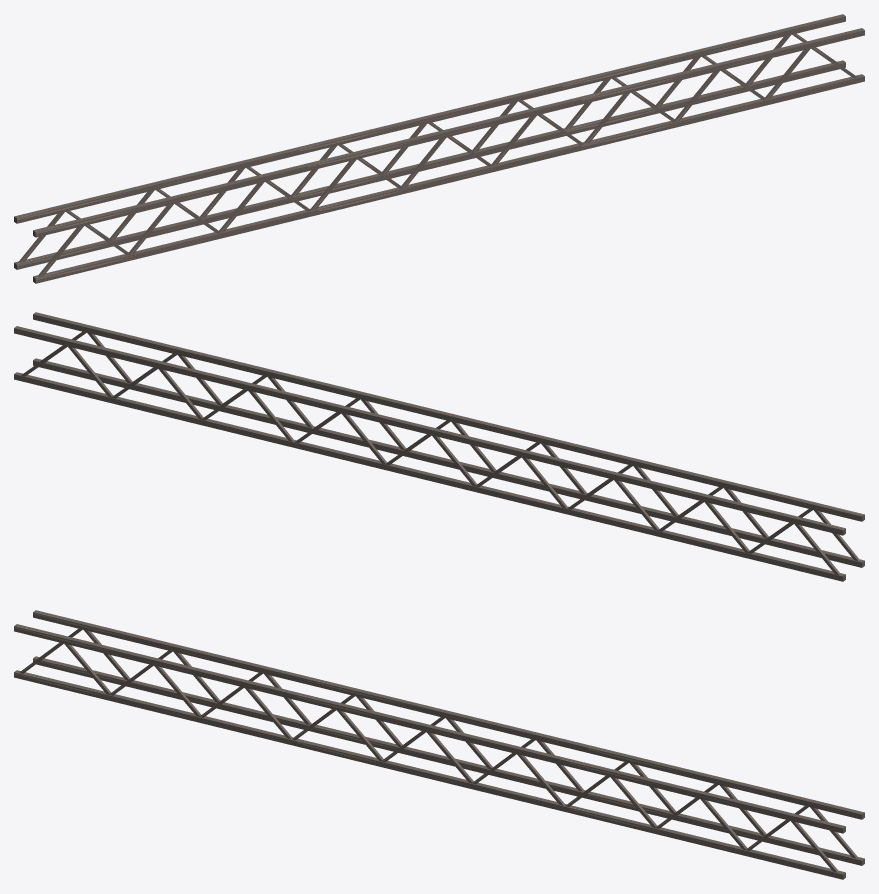
File: beam.fbx
3 renders of one model, top to bottom at view 1: azimuth 30°, elevation 25°; view 2: azimuth 150°, elevation 25°; view 3: azimuth 330°, elevation 25°, orthographic.
Parts seen in each view (by area): view 1: Cube.007; view 2: Cube.007; view 3: Cube.007.
Boxes of the visible parts, left/top/right/bottom form: Cube.007: left=14, top=14, right=864, bottom=283; Cube.007: left=14, top=312, right=864, bottom=581; Cube.007: left=14, top=610, right=864, bottom=879.
Size of the model in its own units: 3399 by 201 by 155.
Materials: 1 (1 with a texture image).
